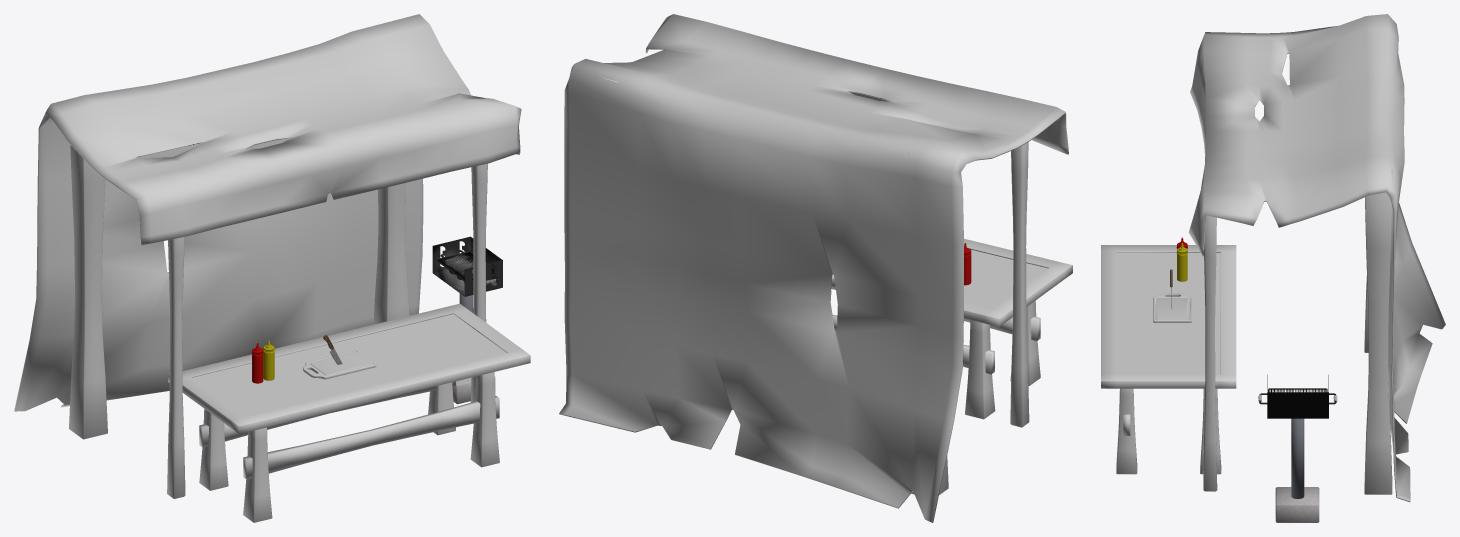
Rendered from Market_stall.fbx.
3 renders of one model, left to right at view 1: azimuth 30°, elevation 25°; view 2: azimuth 150°, elevation 25°; view 3: azimuth 270°, elevation 25°, orthographic. The views are drawn at different scales.
Parts seen in each view (by area): view 1: cloth_low_Cube.008, tableTop_low_Cube.011, backClothSupport_low_Cube.007, tableLegs_low_Cube.006, forwardClothSupport_low_Cube.005, traverseSupports_low_Cube.010, Grill, Board, GrillUp; view 2: cloth_low_Cube.008, tableTop_low_Cube.011, forwardClothSupport_low_Cube.005, tableLegs_low_Cube.006, traverseSupports_low_Cube.010; view 3: cloth_low_Cube.008, tableTop_low_Cube.011, backClothSupport_low_Cube.007, Grill, forwardClothSupport_low_Cube.005, tableLegs_low_Cube.006, Board.
Part boxes in pixels (bbox=[...]): cloth_low_Cube.008: bbox=[14, 14, 521, 411]; tableTop_low_Cube.011: bbox=[168, 303, 530, 433]; backClothSupport_low_Cube.007: bbox=[69, 145, 409, 439]; tableLegs_low_Cube.006: bbox=[199, 372, 499, 522]; forwardClothSupport_low_Cube.005: bbox=[167, 163, 487, 498]; traverseSupports_low_Cube.010: bbox=[199, 381, 499, 479]; Grill: bbox=[432, 236, 502, 404]; Board: bbox=[303, 350, 376, 379]; GrillUp: bbox=[436, 250, 499, 284]; cloth_low_Cube.008: bbox=[559, 14, 1068, 522]; tableTop_low_Cube.011: bbox=[831, 238, 1072, 326]; forwardClothSupport_low_Cube.005: bbox=[1010, 142, 1029, 427]; tableLegs_low_Cube.006: bbox=[965, 301, 1040, 419]; traverseSupports_low_Cube.010: bbox=[831, 286, 1040, 374]; cloth_low_Cube.008: bbox=[1188, 14, 1445, 502]; tableTop_low_Cube.011: bbox=[1101, 245, 1236, 388]; backClothSupport_low_Cube.007: bbox=[1364, 170, 1392, 494]; Grill: bbox=[1267, 375, 1328, 522]; forwardClothSupport_low_Cube.005: bbox=[1203, 157, 1217, 491]; tableLegs_low_Cube.006: bbox=[1116, 388, 1221, 474]; Board: bbox=[1153, 293, 1191, 322].
Bounding box in the file's own units: 315 × 260 × 247.
